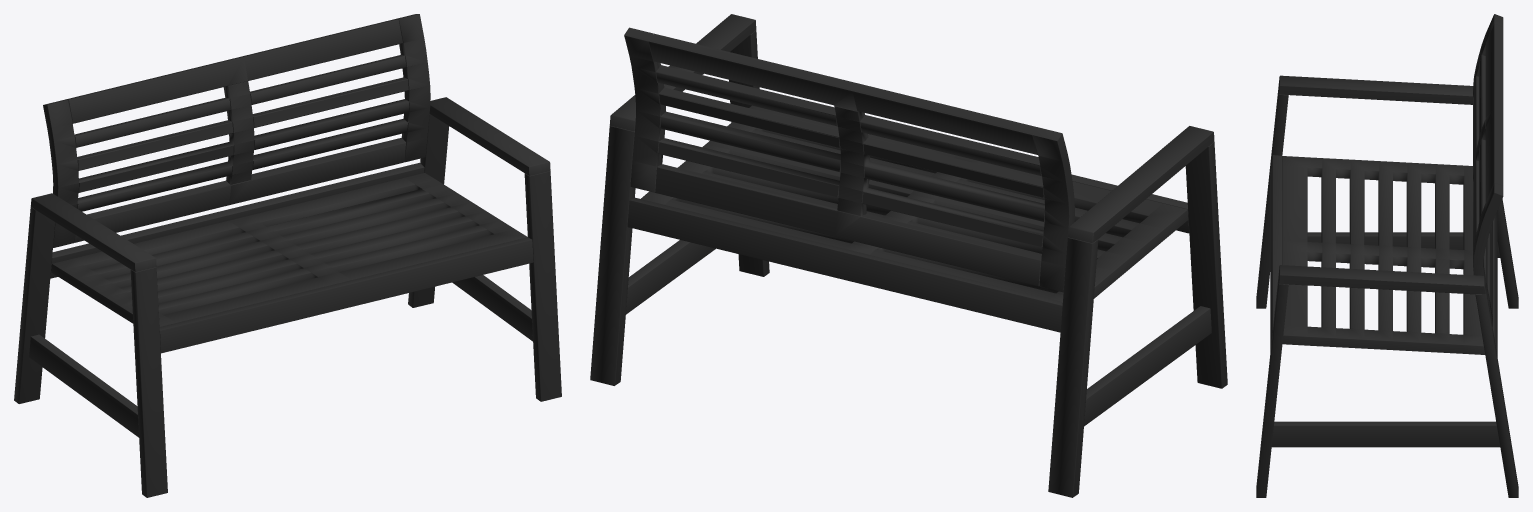
The picture shows the model from 3 angles, left to right: view 1: azimuth 30°, elevation 25°; view 2: azimuth 150°, elevation 25°; view 3: azimuth 270°, elevation 25°; orthographic projection. The views are drawn at different scales.
Visible parts, largest first — view 1: M28_APPLARO; view 2: M28_APPLARO; view 3: M28_APPLARO.
Boxes of the visible parts, bbox=[...] form: M28_APPLARO: bbox=[14, 14, 561, 497]; M28_APPLARO: bbox=[590, 14, 1227, 497]; M28_APPLARO: bbox=[1256, 14, 1518, 497].
Size of what is drawn, in the model's own units: 2 by 1.38 by 1.11.
1 material, 1 textured.
